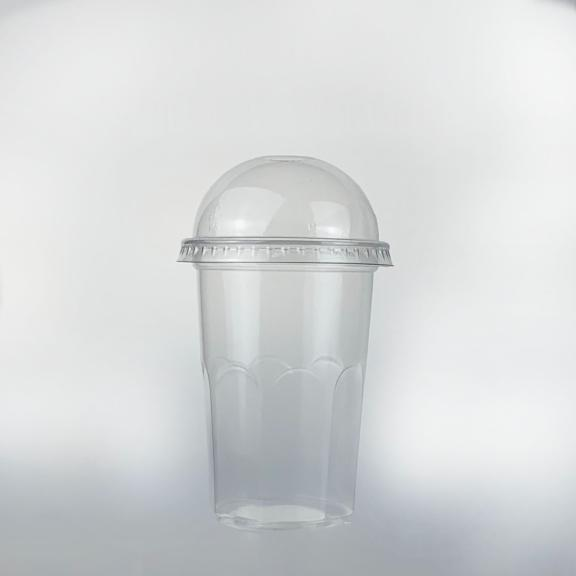Plastik: (179, 157, 391, 529)
